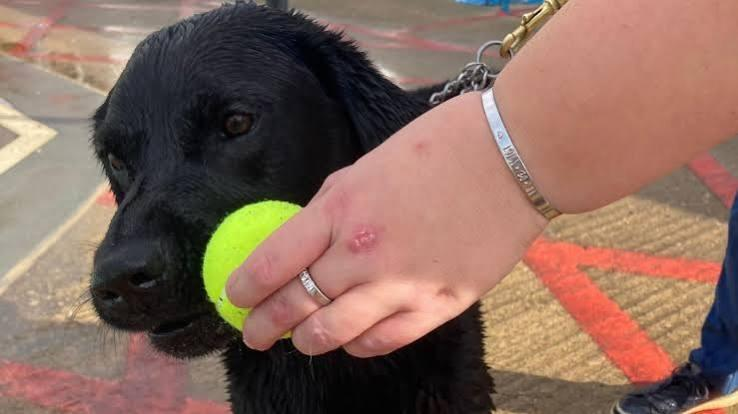adult_dog: (84, 4, 507, 414)
